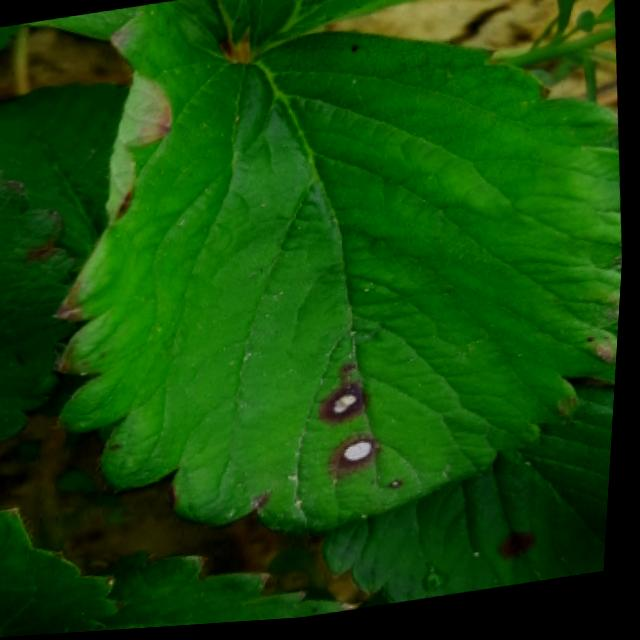Leaf Spot: (52, 36, 626, 544), (327, 389, 620, 610), (0, 175, 83, 444), (101, 556, 366, 632), (242, 0, 419, 64)
